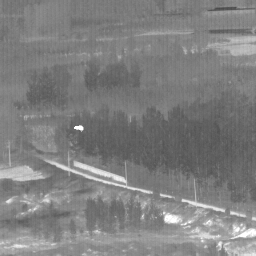Target: (72, 123, 84, 132)
